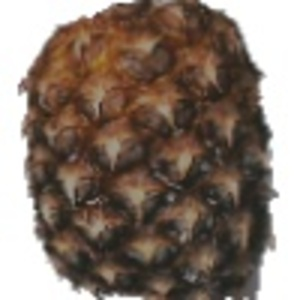abacaxi: (15, 5, 283, 294)
